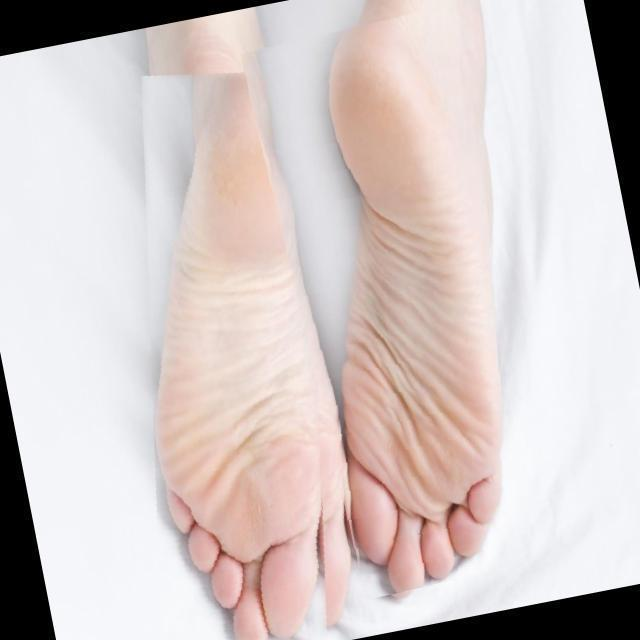No_Shoes: (321, 28, 503, 590), (159, 50, 333, 626)
